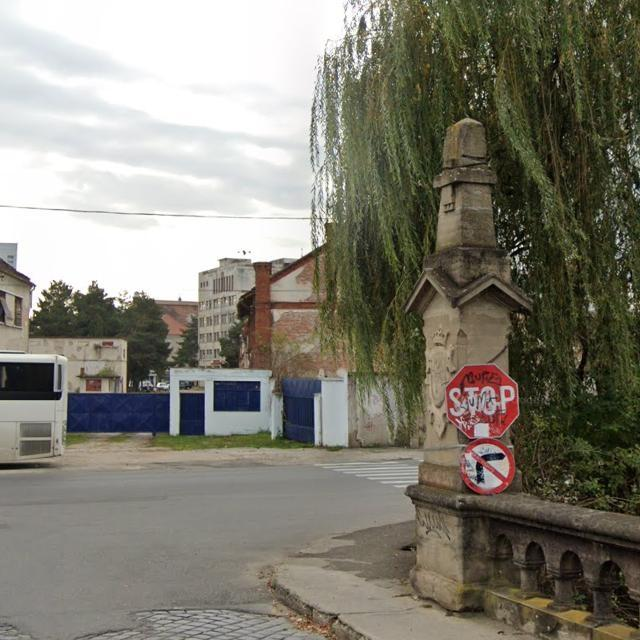prio_stop: (445, 364, 520, 439)
